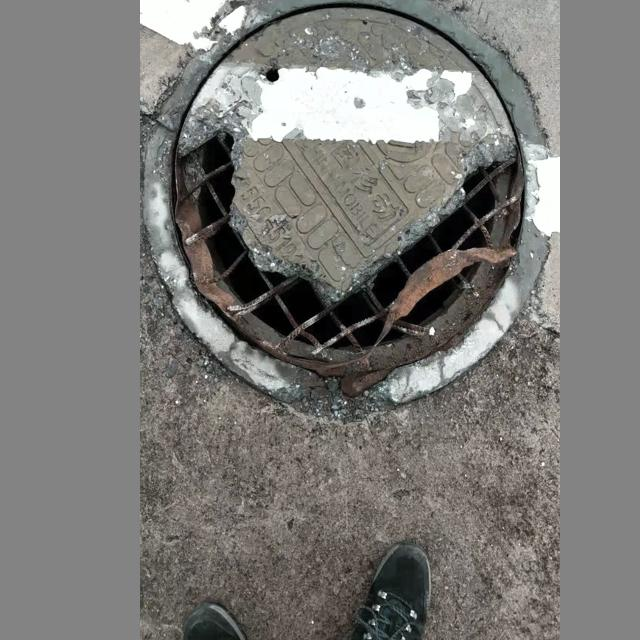broke: (144, 0, 551, 420)
